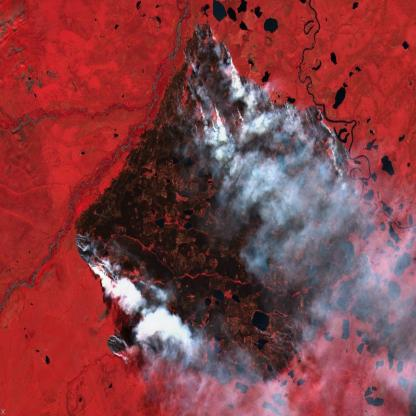fire: (179, 16, 354, 172), (70, 228, 138, 367)
